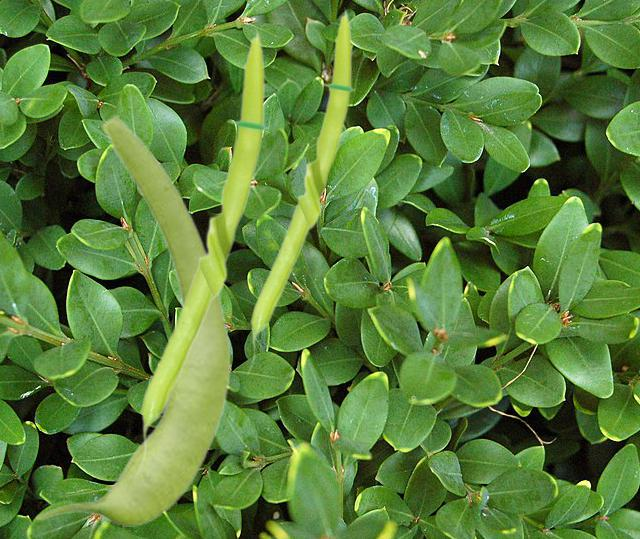french_bean: (34, 112, 231, 525), (135, 26, 269, 476), (246, 6, 355, 375)
